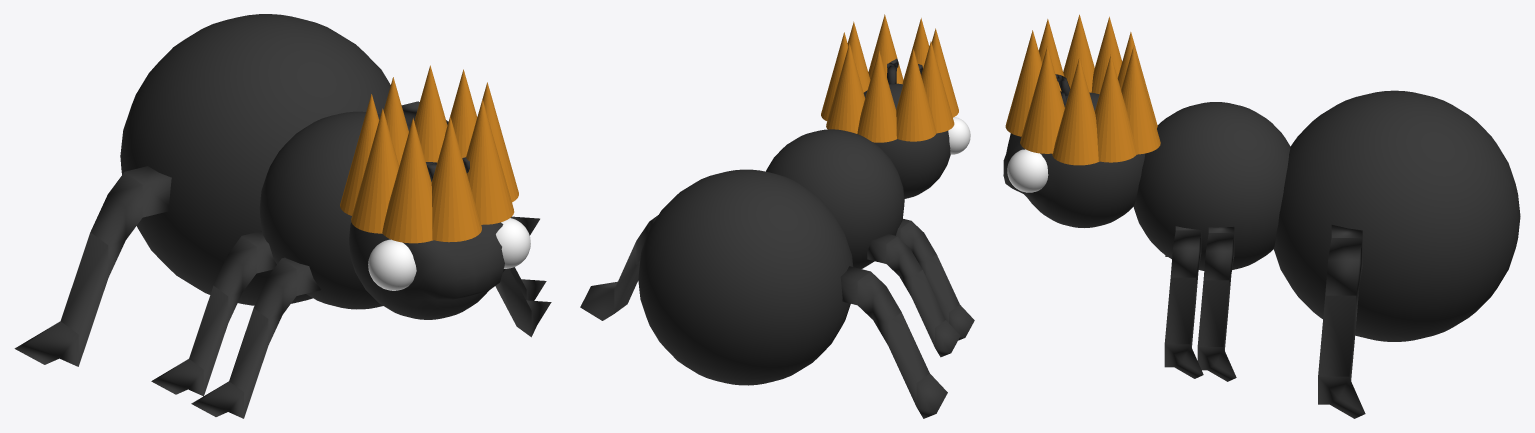
File: base_fourmi_noire_reine.dae
The picture shows the model from 3 angles, left to right: view 1: azimuth 30°, elevation 25°; view 2: azimuth 150°, elevation 25°; view 3: azimuth 270°, elevation 25°; orthographic projection. The views are drawn at different scales.
Visible parts, largest first — view 1: Cube_003; view 2: Cube_003; view 3: Cube_003.
Part boxes in pixels (bbox=[...]): Cube_003: bbox=[14, 14, 551, 418]; Cube_003: bbox=[580, 14, 974, 418]; Cube_003: bbox=[1003, 14, 1520, 418].
Size of the model in its own units: 4.23 by 4.43 by 2.82.
